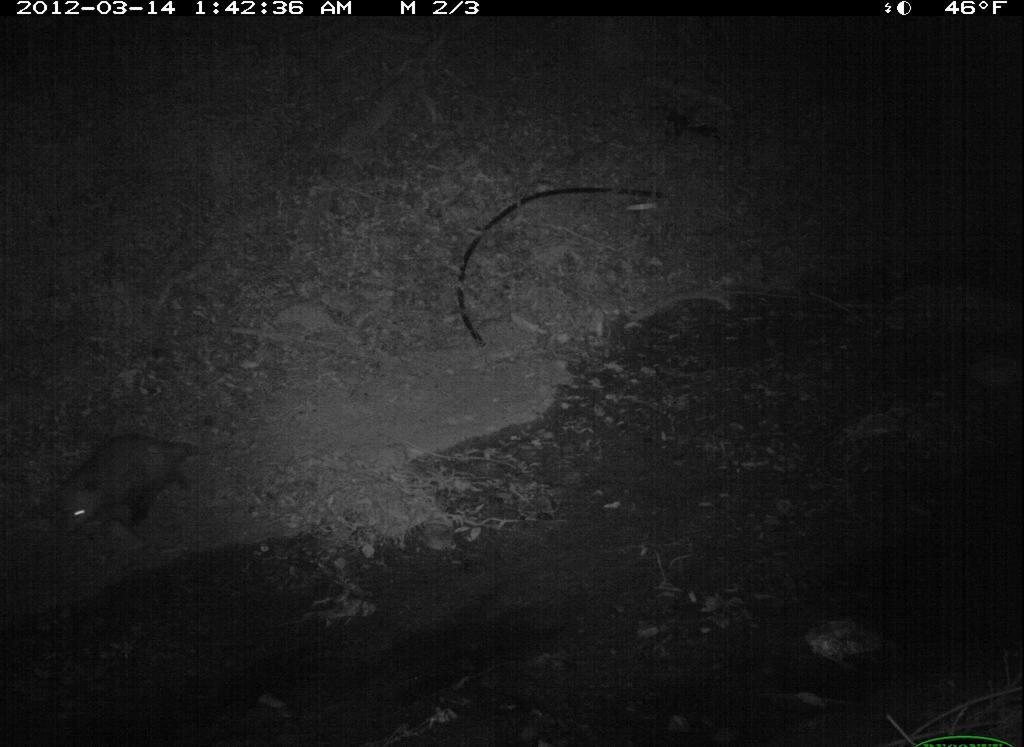opossum: (44, 423, 208, 551)
